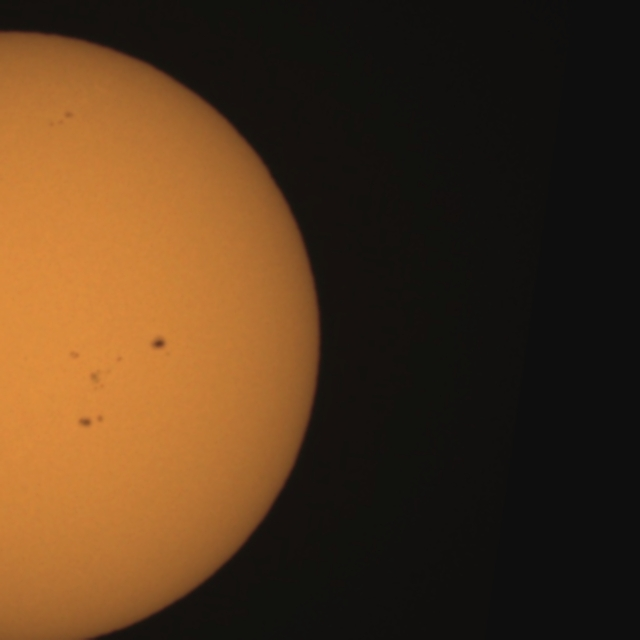sunspot: (88, 355, 124, 391), (88, 366, 112, 393), (148, 334, 172, 357), (48, 109, 75, 129), (76, 412, 106, 430), (67, 349, 81, 362), (114, 354, 125, 364)
